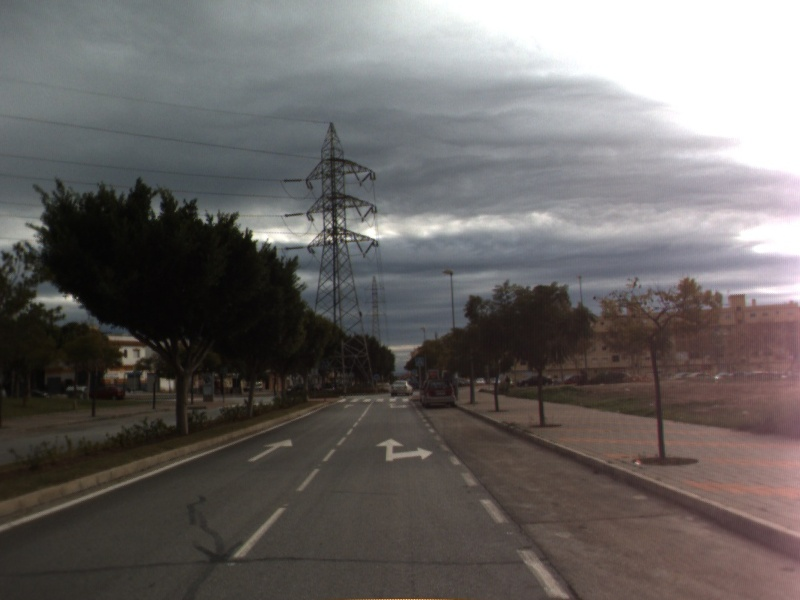STRAIGHT: (246, 437, 295, 463)
STRAIGHT_RIGHT: (374, 436, 435, 462)
